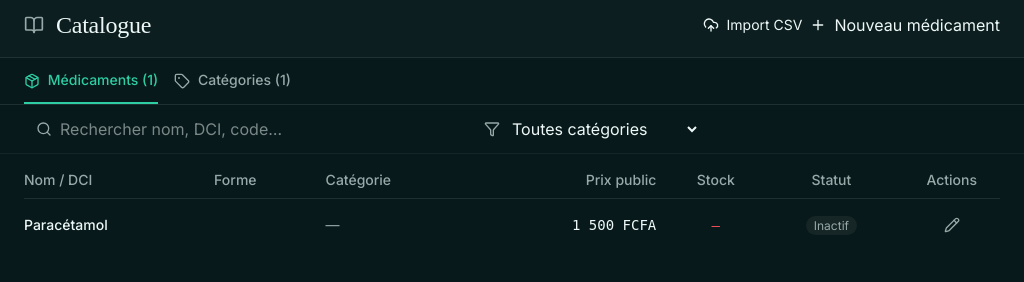
Test: ScreenCatalogue › filtre les résultats avec la recherche et change d’onglet
The width and height of the screenshot is (1024, 282).
Expected: the text "Paracétamol" is shown, [24,216,108,233]
Type "para" into the field with placeholder "Rechercher nom, DCI, code…" at coordinates (159, 129), box [24,117,294,141]
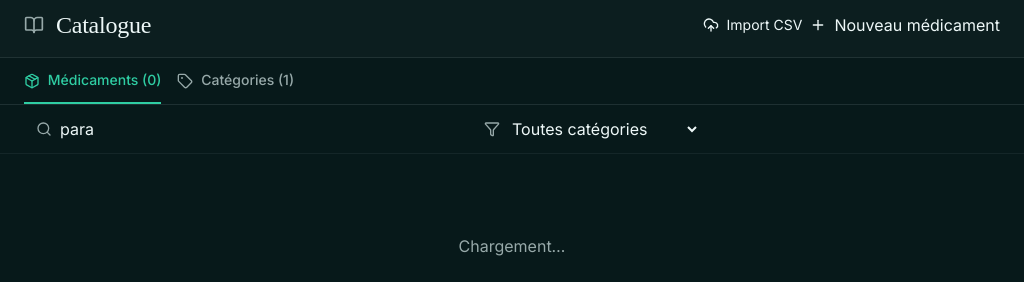
Click the button "Catégories (1)" at coordinates (236, 81), box [178,58,294,104]
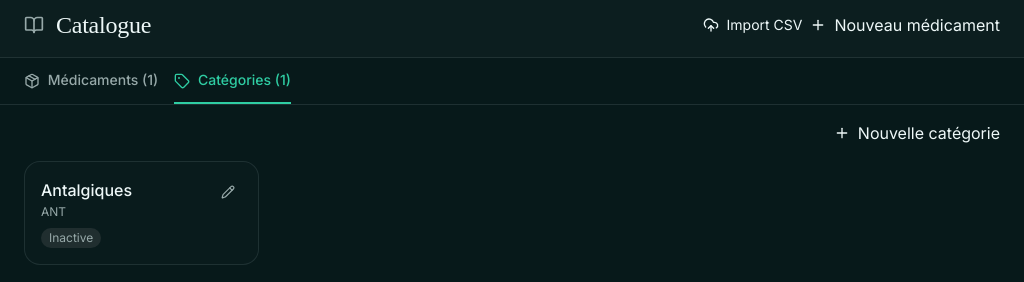
Expected: the text "Antalgiques" is shown, [41,178,132,202]
